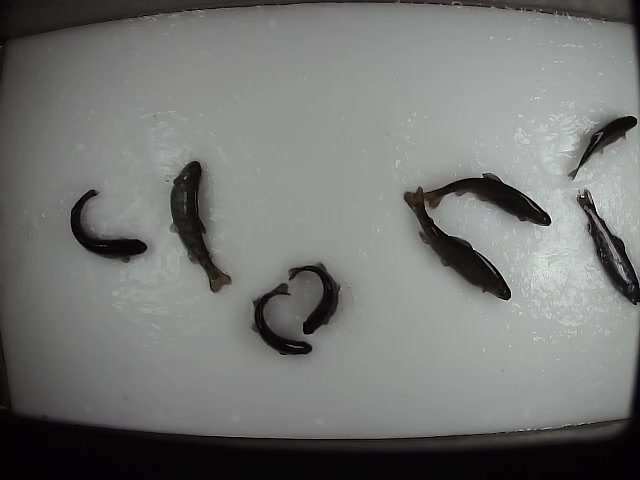fish: (400, 185, 513, 300), (168, 158, 233, 293), (415, 167, 551, 229), (573, 186, 640, 306), (68, 188, 149, 264), (246, 278, 315, 357), (565, 113, 640, 179), (285, 259, 341, 334)
